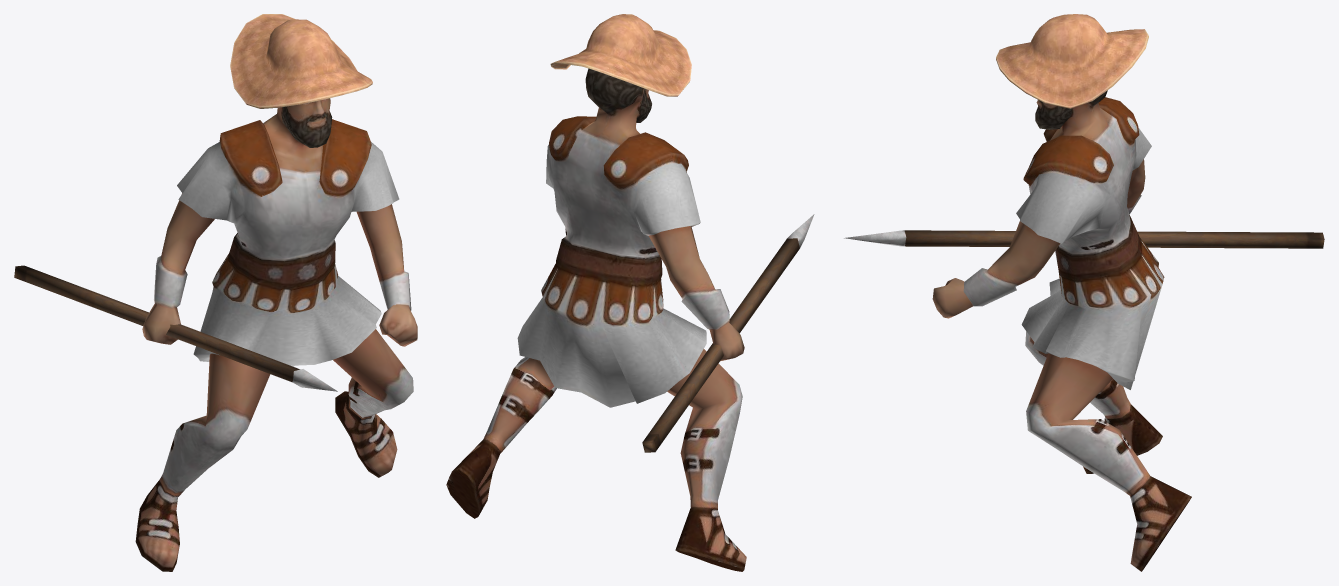
File: rider-heavycavalry.glb
The picture shows the model from 3 angles, left to right: view 1: azimuth 30°, elevation 25°; view 2: azimuth 150°, elevation 25°; view 3: azimuth 270°, elevation 25°; orthographic projection.
Bounding box in the file's own units: 1.21 × 2.06 × 1.74.
3 materials, 3 textured.
